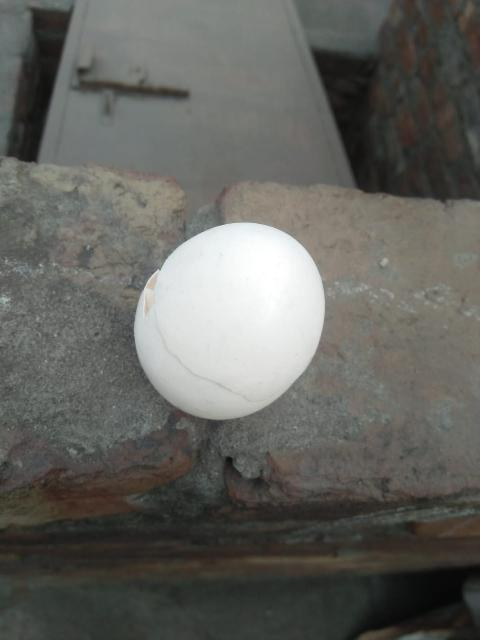Roto: (132, 220, 326, 421)
